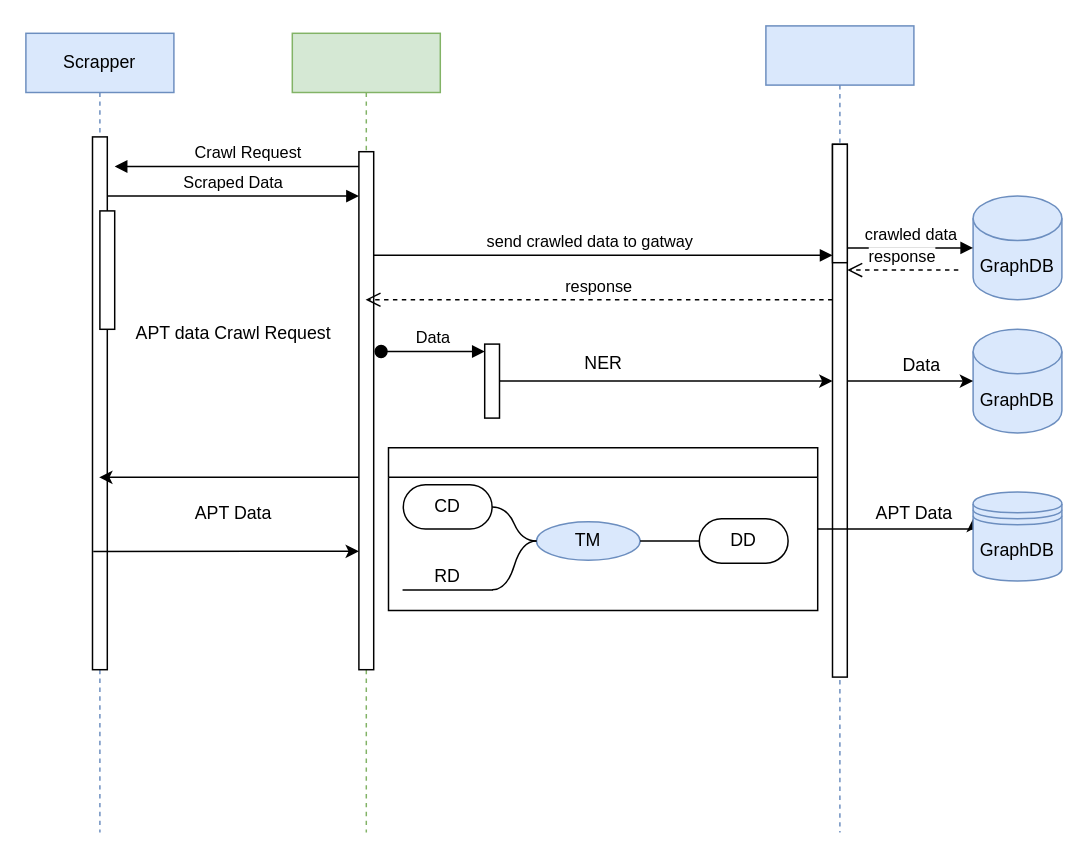
Some shapes in this 1088 by 858 pixel diagram are drawn without their labels. Each missing label, with the box of its shape:
Api Gateway: (764, 24, 914, 832)
Server: (291, 32, 440, 832)
Text Minning: (387, 446, 818, 610)
